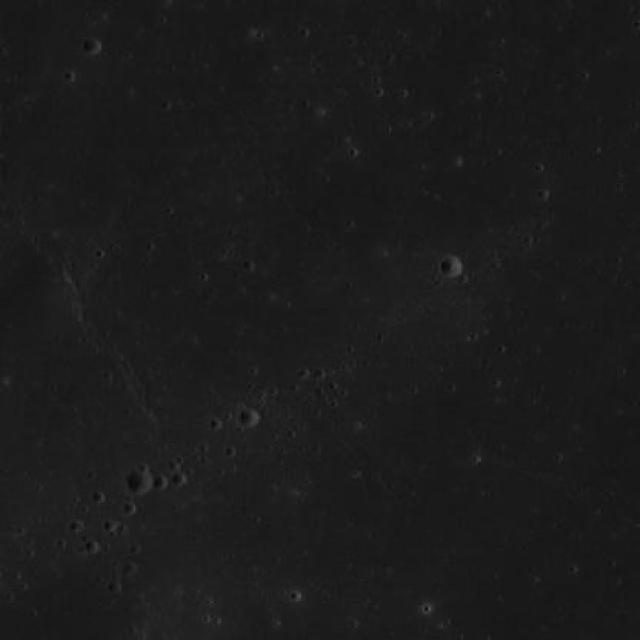crater: (124, 469, 152, 497), (440, 256, 462, 276), (238, 408, 258, 428), (82, 36, 100, 55), (151, 474, 167, 489)
